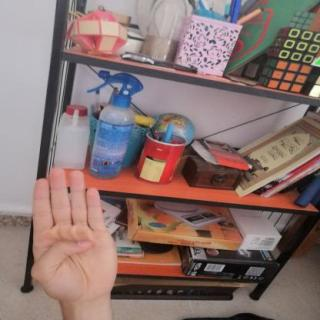KAAF: (17, 160, 129, 310)
